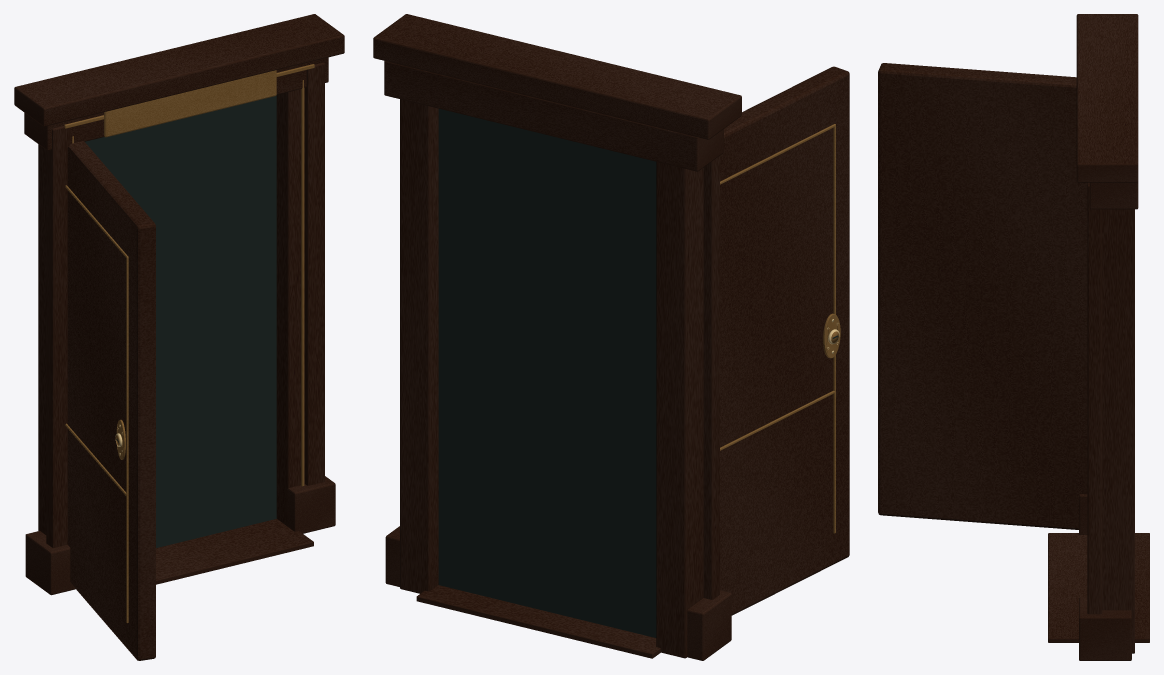
The model's file is open-doorway.glb.
3 renders of one model, left to right at view 1: azimuth 30°, elevation 25°; view 2: azimuth 150°, elevation 25°; view 3: azimuth 270°, elevation 25°, orthographic. The views are drawn at different scales.
Parts seen in each view (by area): view 1: Passage shadow recess, Threshold thick door, Passage cornice, Passage timber jamb.001, Passage stepped architrave, Passage stepped architrave.001, Passage flush threshold, Passage destination plate, Passage timber jamb, Passage plinth.001, Passage plinth, Passage lintel (+2 smaller); view 2: Passage shadow recess, Threshold thick door, Passage timber jamb, Passage timber jamb.001, Passage cornice, Passage lintel, Passage stepped architrave, Passage flush threshold, Passage plinth, Key_Threshold_Door / Aged brass / Key_door_hinge, Passage plinth.001; view 3: Threshold thick door, Passage timber jamb.001, Passage cornice, Passage stepped architrave.001, Passage flush threshold, Passage plinth.001, Passage lintel.
Part boxes in pixels (<box>): Passage shadow recess: <box>85,95,276,547</box>; Threshold thick door: <box>67,141,155,660</box>; Passage cornice: <box>14,14,344,126</box>; Passage timber jamb.001: <box>276,88,304,525</box>; Passage stepped architrave: <box>46,126,70,547</box>; Passage stepped architrave.001: <box>305,62,324,485</box>; Passage flush threshold: <box>156,519,313,584</box>; Passage destination plate: <box>104,70,276,137</box>; Passage timber jamb: <box>38,144,46,534</box>; Passage plinth.001: <box>279,476,335,533</box>; Passage plinth: <box>25,531,75,595</box>; Passage lintel: <box>24,57,328,150</box>; Passage shadow recess: <box>438,108,656,637</box>; Threshold thick door: <box>720,66,849,615</box>; Passage timber jamb: <box>656,162,703,658</box>; Passage timber jamb.001: <box>400,99,438,593</box>; Passage cornice: <box>373,14,741,139</box>; Passage lintel: <box>384,61,723,171</box>; Passage stepped architrave: <box>703,156,719,599</box>; Passage flush threshold: <box>416,585,660,658</box>; Passage plinth: <box>687,590,731,660</box>; Key_Threshold_Door / Aged brass / Key_door_hinge: <box>720,124,835,533</box>; Passage plinth.001: <box>385,526,437,589</box>; Threshold thick door: <box>878,63,1087,529</box>; Passage timber jamb.001: <box>1102,209,1134,653</box>; Passage cornice: <box>1076,14,1138,182</box>; Passage stepped architrave.001: <box>1087,182,1102,614</box>; Passage flush threshold: <box>1048,533,1149,642</box>; Passage plinth.001: <box>1079,597,1131,660</box>; Passage lintel: <box>1089,181,1138,209</box>.
Size of the model in its own units: 1.71 by 2.61 by 1.28.
Materials: 6 (3 with a texture image).
